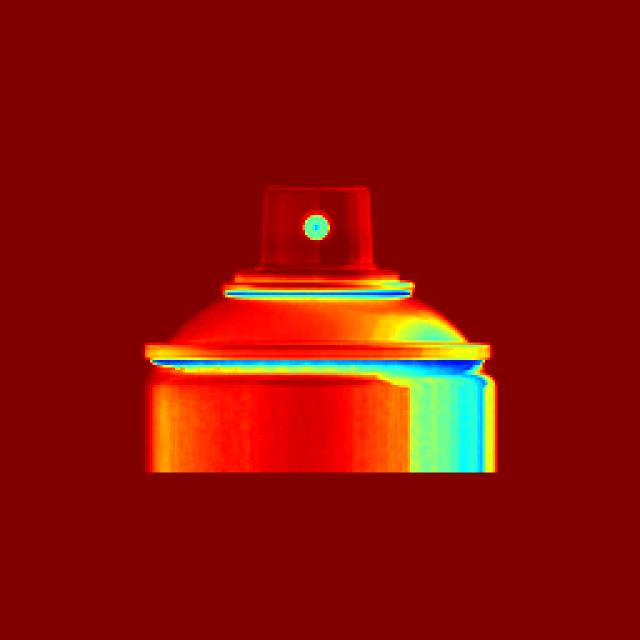Aerosol Cans: (94, 138, 537, 502)
